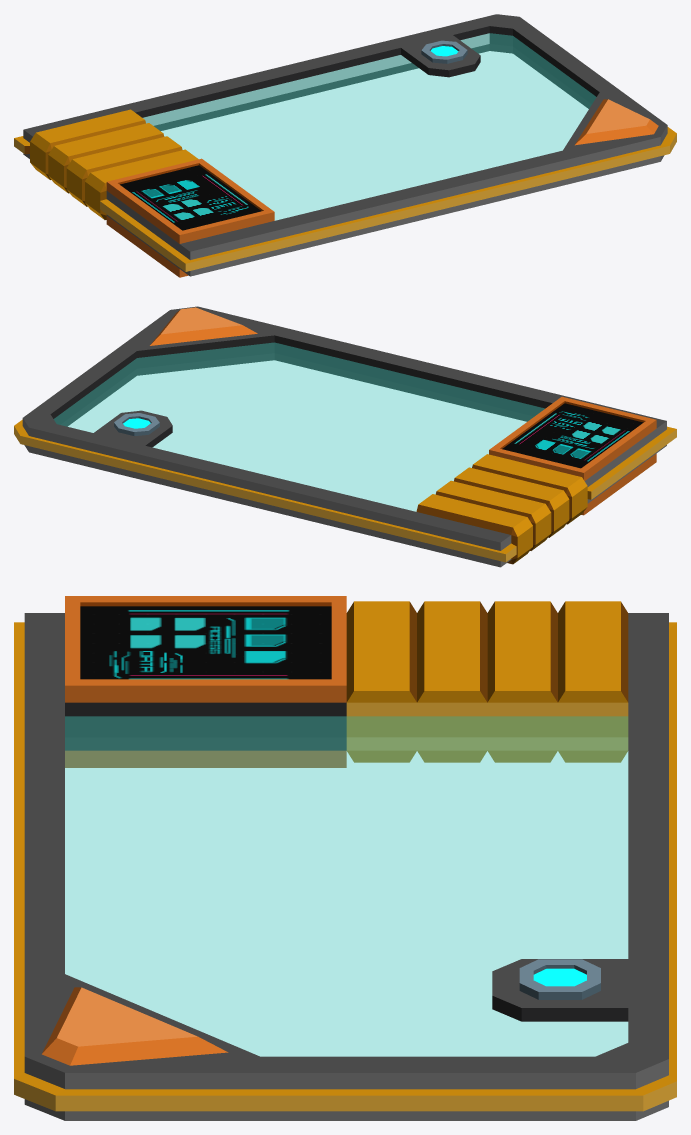
File: Tablet.glb
3 renders of one model, top to bottom at view 1: azimuth 30°, elevation 25°; view 2: azimuth 150°, elevation 25°; view 3: azimuth 270°, elevation 25°, orthographic. The views are drawn at different scales.
Visible parts, largest first — view 1: Tablet; view 2: Tablet; view 3: Tablet.
Boxes of the visible parts, x1,y1,x2,y2 form: Tablet: (14,14,676,277); Tablet: (14,306,676,567); Tablet: (14,596,676,1120).
Size of what is drawn, in the model's own units: 0.5039 by 0.0409 by 0.2984.
3 materials, 3 textured.
